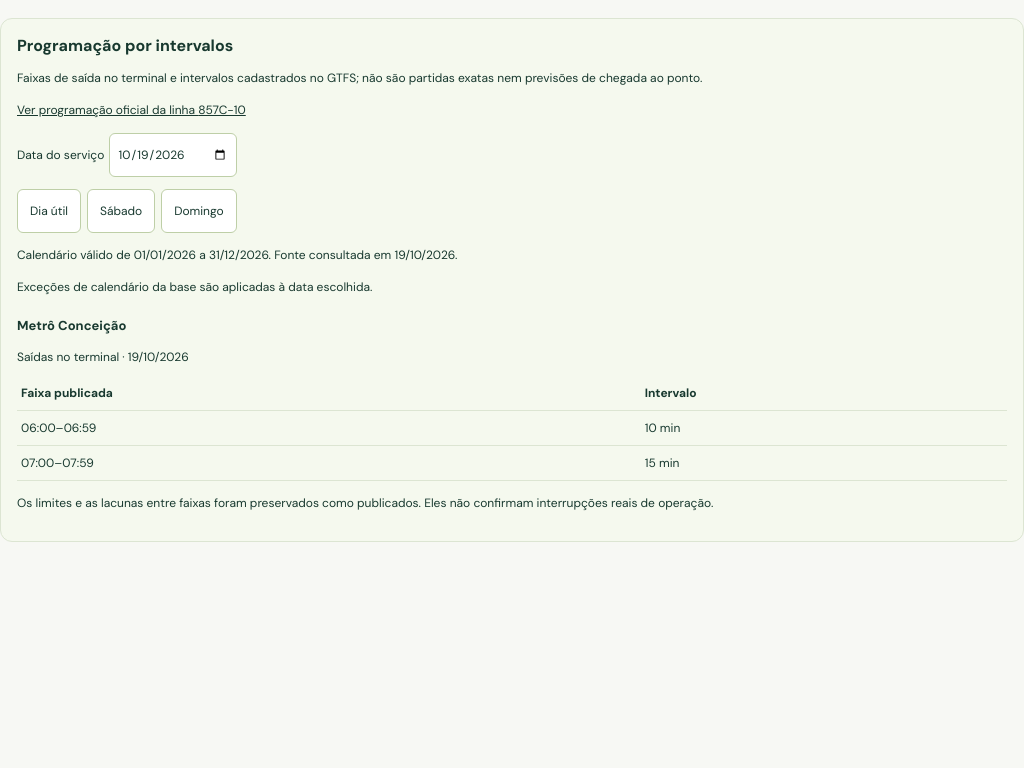
Scenario: informa validade vencida sem afirmar que a linha não opera
Expected: the table is shown, [17,340,1007,481]
Step 1. Type "2027-01-01" into the date field labelled "Data do serviço" → (173, 155), box [109,133,237,177]
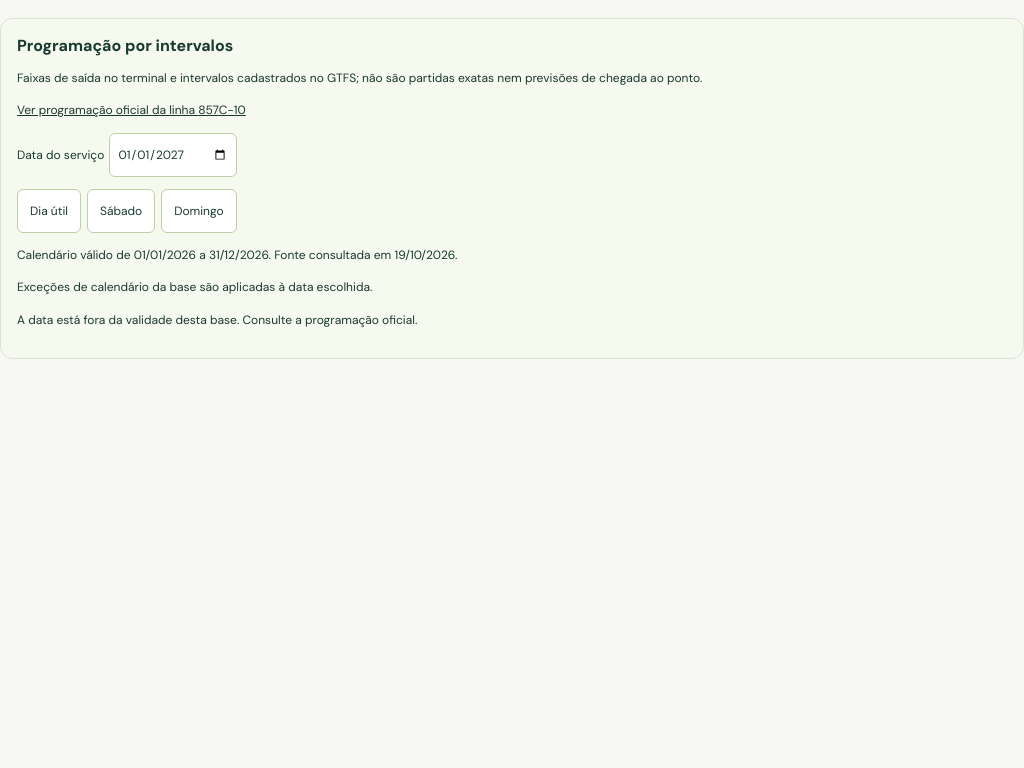
Expected: the text "A data está fora da validade desta base. Consulte a programação oficial." is shown, [17,312,417,328]
Expected: the table is gone
